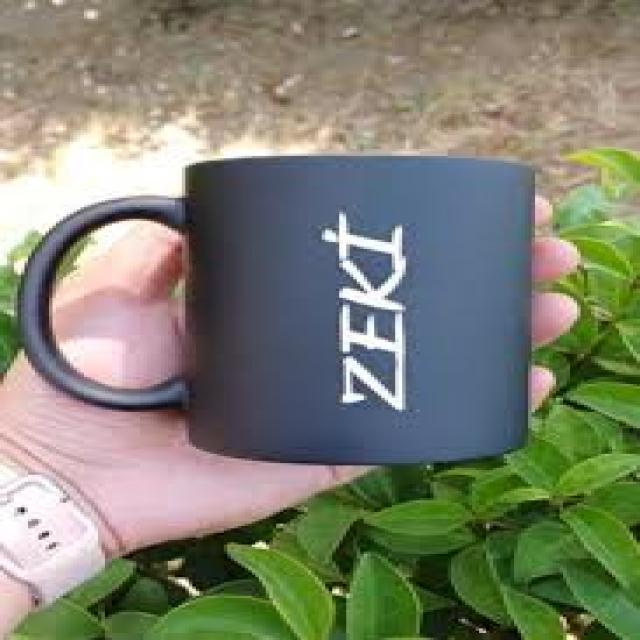taza: (18, 153, 536, 464)
